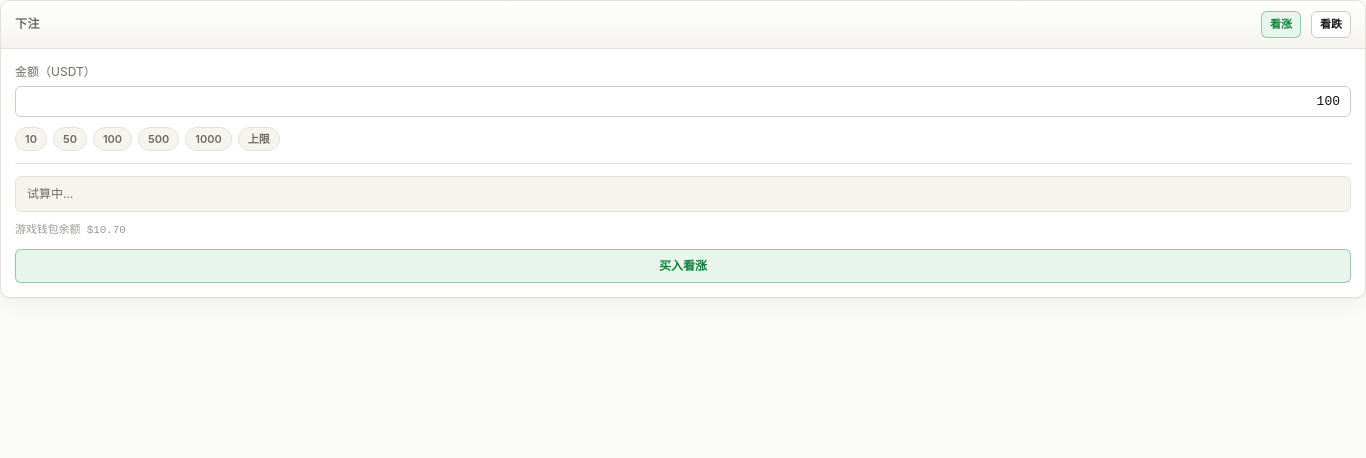
Test: BetTicket：试算以后端为准 › 上限按钮按最坏手续费留额度，不会试算就超扣
What coordinates should you click on to do the following:
click the button "上限"
I would click on:
 (259, 139)
Its box is [238,126,280,151].
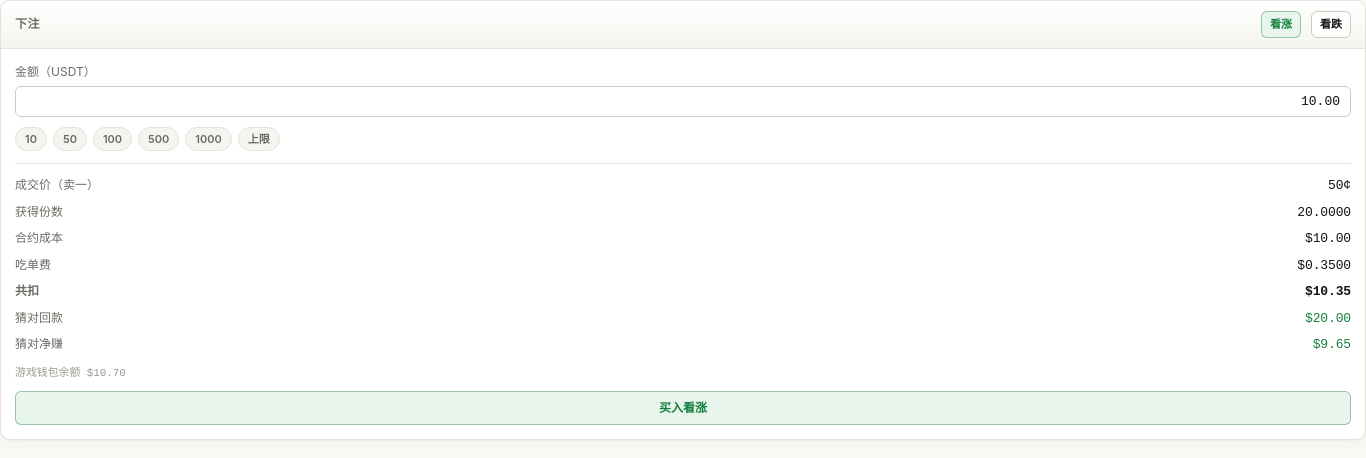
Expected: the field labelled "金额（USDT）" holds "10.00", [15,86,1351,116]
